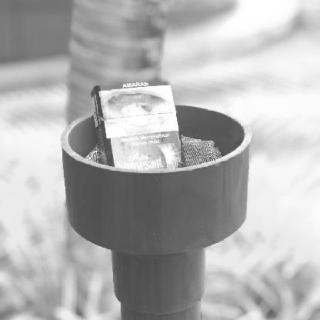objects: (90, 79, 182, 170)
